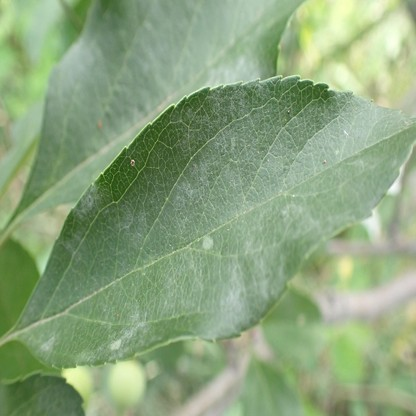powdery_mildew: (13, 73, 416, 370), (202, 55, 261, 88)
